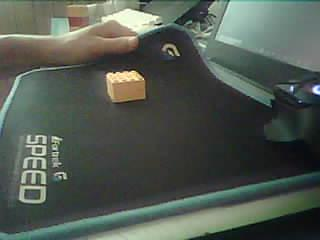lego: (106, 70, 146, 103), (67, 4, 90, 31)
